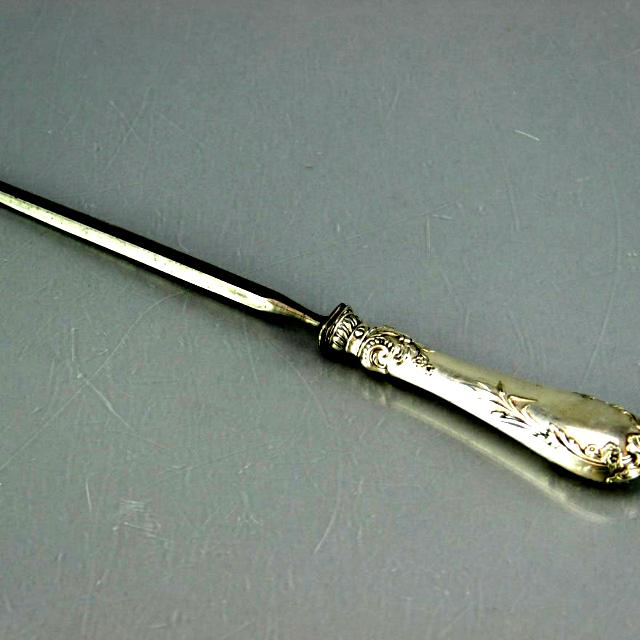ice pick: (0, 179, 640, 483)
